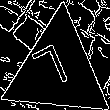L_SE: (35, 40, 81, 100)
